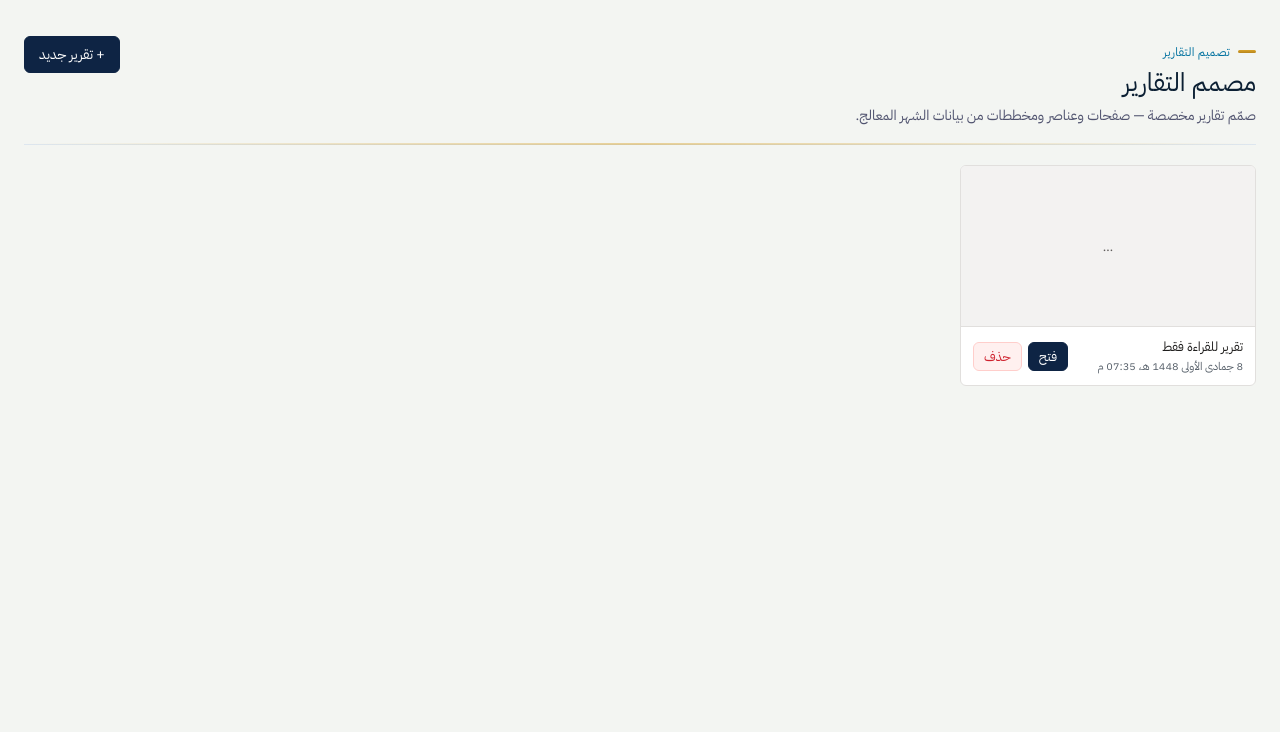
EditorHost — opening a design does not write it back (T-09) › writes nothing and leaves authorship untouched when a design is opened and closed
Expected: the text "تقرير للقراءة فقط" is shown, [1162,337,1243,356]
Click the button "فتح" at (1048, 356), box [1028,342,1068,371]
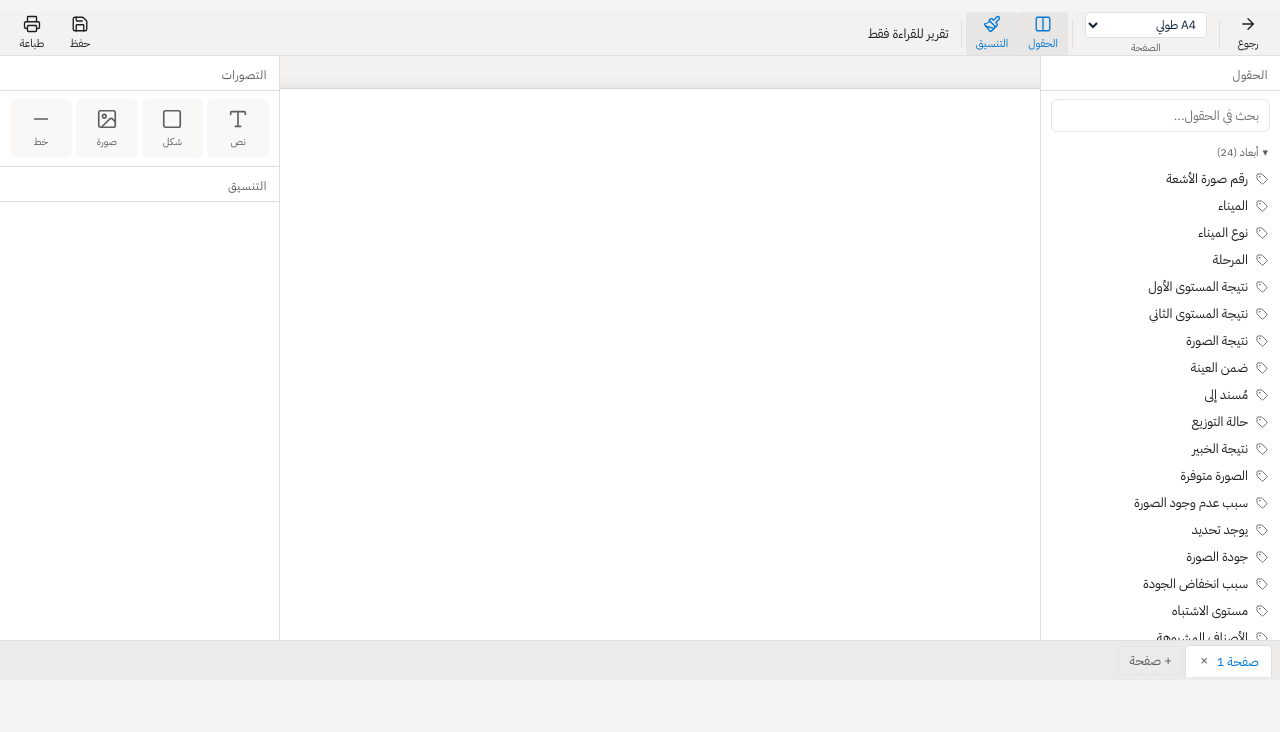
Result: the button titled "طباعة" is shown at [8,12,56,56]
